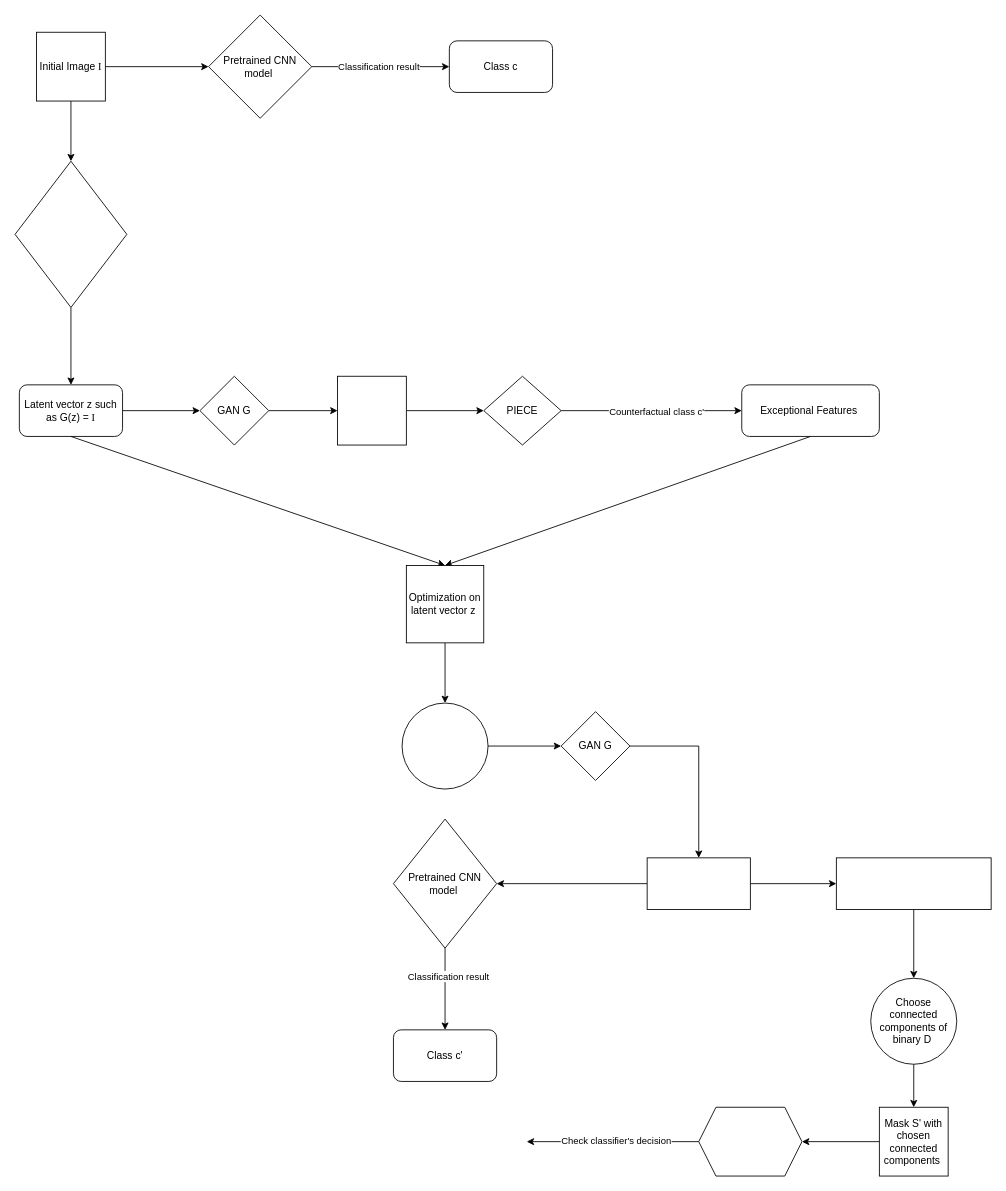
Some shapes in this 1006 by 1191 pixel diagram are drawn without their labels. Here are the shapes that lost their labels. From the top down, the centre of each, then its label:
pixel 70 233: GAN inversion using pretrained GAN G
pixel 371 410: Synthetic image S = I
pixel 444 745: Counterfactual latent vector z'
pixel 698 883: Counterfactual image S'
pixel 913 883: Difference image D = |S - S'|
pixel 750 1141: New image S''
